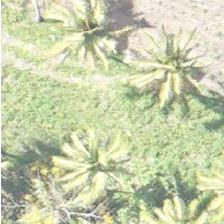Kelapa_Sawit: (129, 27, 219, 117), (50, 125, 140, 215), (43, 0, 133, 74)
